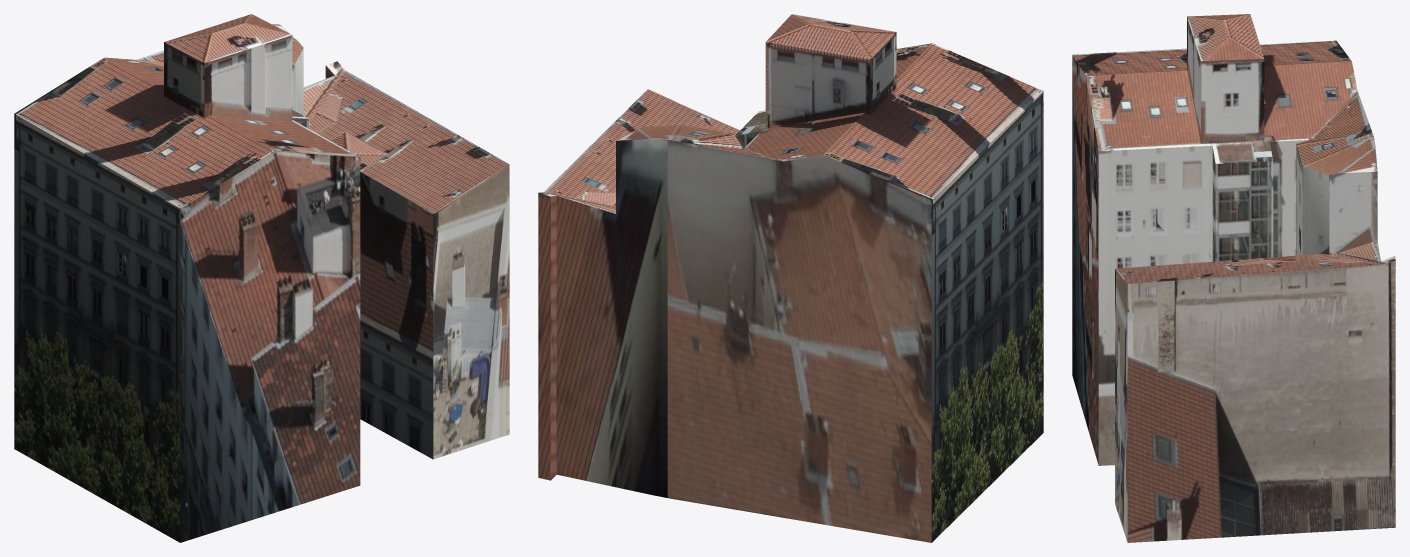
3 views of the same model, side by side, from view 1: azimuth 30°, elevation 25°; view 2: azimuth 150°, elevation 25°; view 3: azimuth 270°, elevation 25° (orthographic). The views are drawn at different scales.
Parts seen in each view (by area): view 1: Z_UP; view 2: Z_UP; view 3: Z_UP.
Boxes of the visible parts, x1=… form: Z_UP: x1=14, y1=14, x2=509, y2=542; Z_UP: x1=538, y1=14, x2=1043, y2=542; Z_UP: x1=1072, y1=14, x2=1395, y2=542.
Size of the model in its own units: 30.87 by 32.39 by 23.32.
2 materials, 1 textured.
